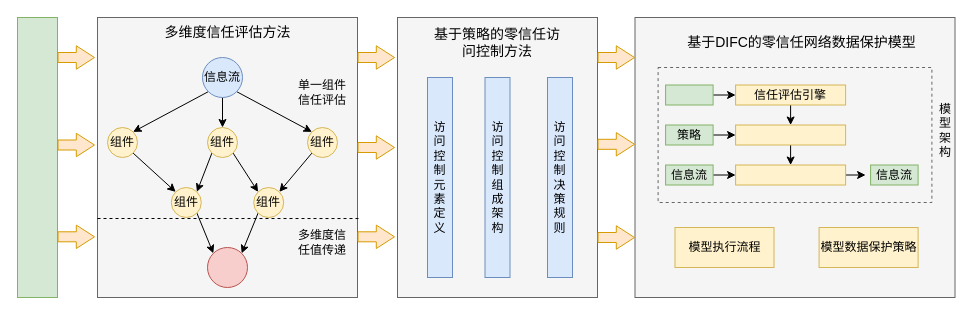
Image size: 973x315. Some labels were removed from this diagram. The box of each missing label's shape, as (x1, y1, x2, y2) in pixels:
DIFC底层数据控制: (735, 164, 846, 185)
PBAC上层数据控制: (735, 124, 846, 145)
基于分散式信息流控制的零信任网络数据保护模型: (16, 16, 58, 298)
特征: (665, 84, 713, 105)
评估值: (206, 246, 248, 288)
